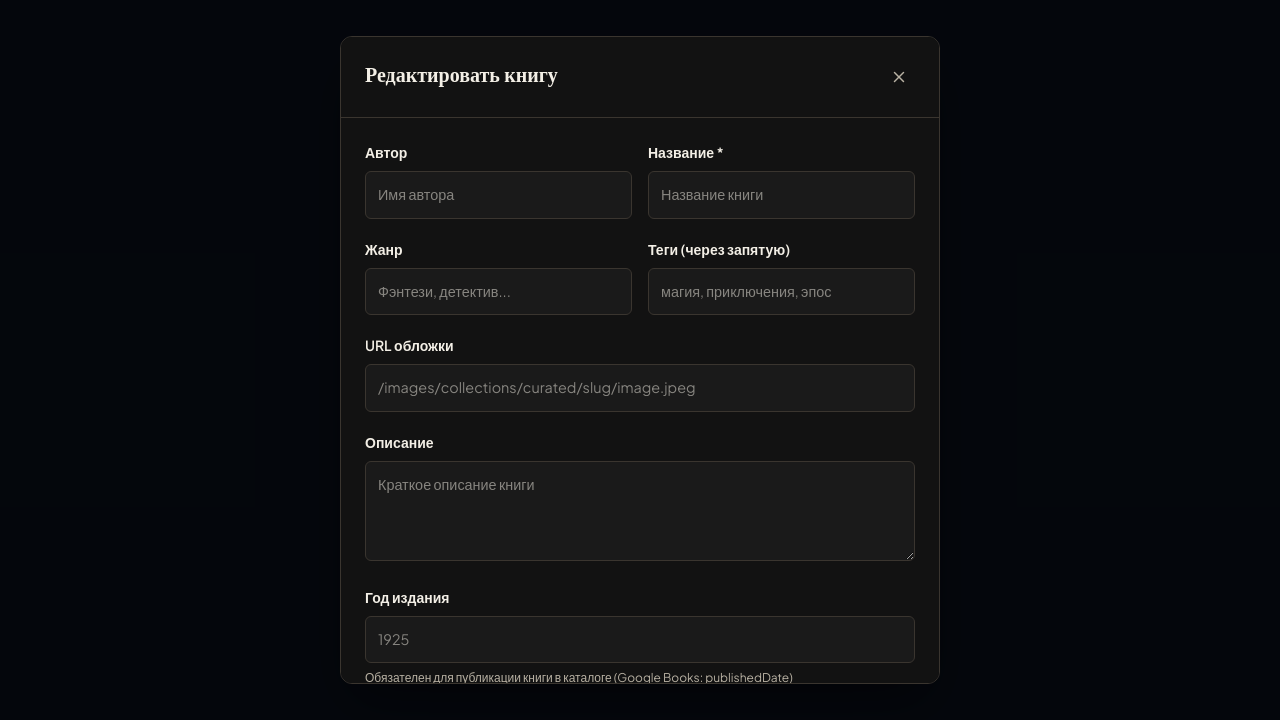
EditBookModal: автопоиск в каталоге › похожие книги — список кандидатов, клик перезаписывает карточку
In the field with placeholder "Название книги": (782, 195) [648,171,915,219], type "Дориан"
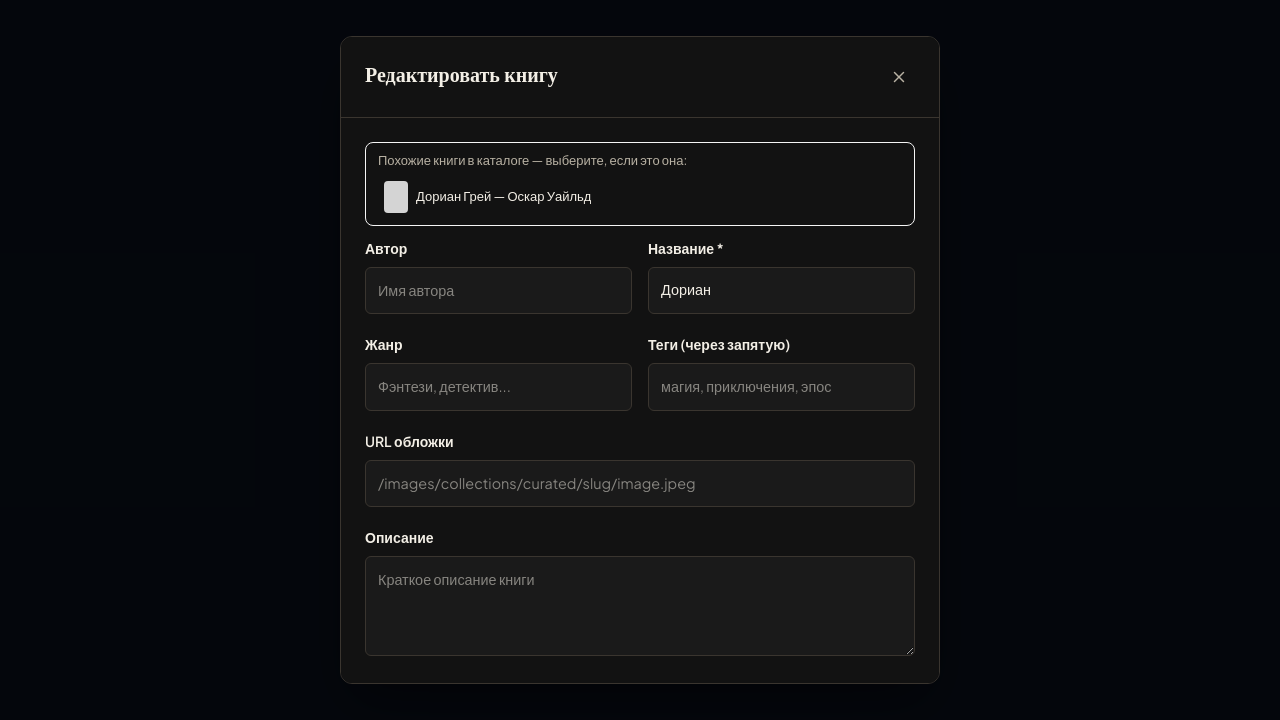
Click the button "Дориан Грей — Оскар Уайльд": click(454, 196) [378,176,902,216]
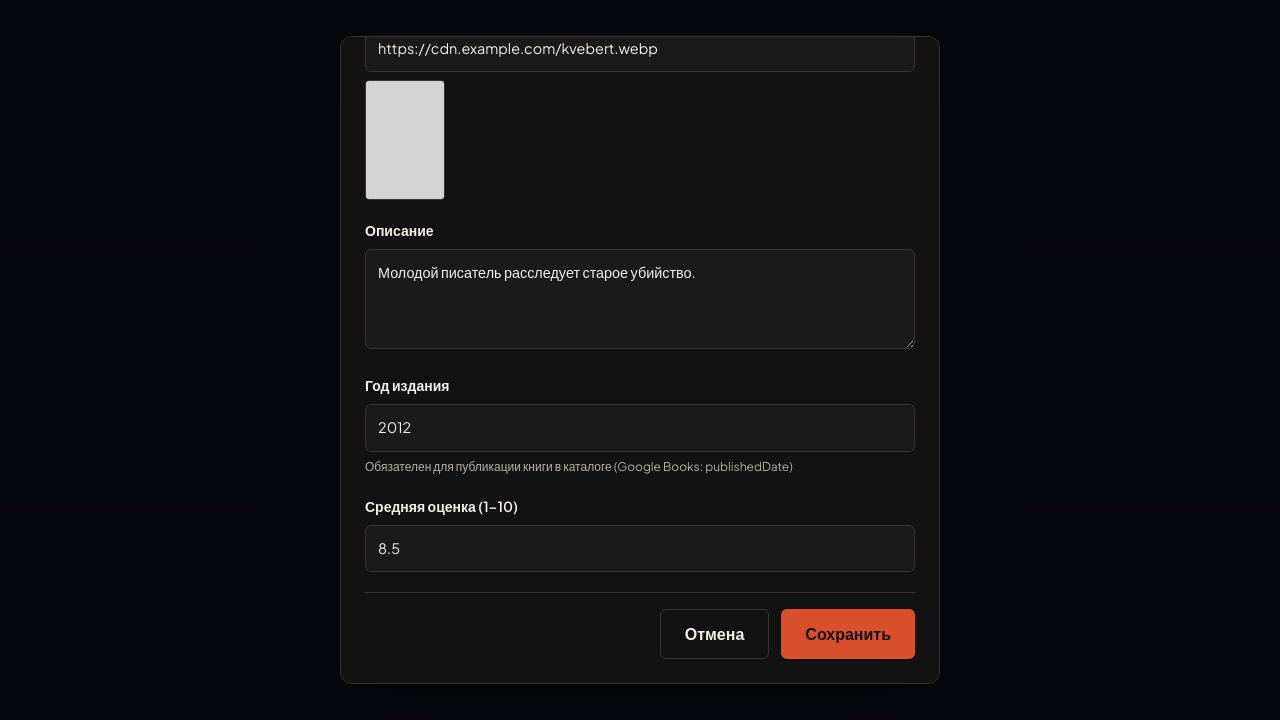
Expected: the number field with placeholder "8.5" below "Средняя оценка (1–10)" holds "8.5", [365,525,915,572]
